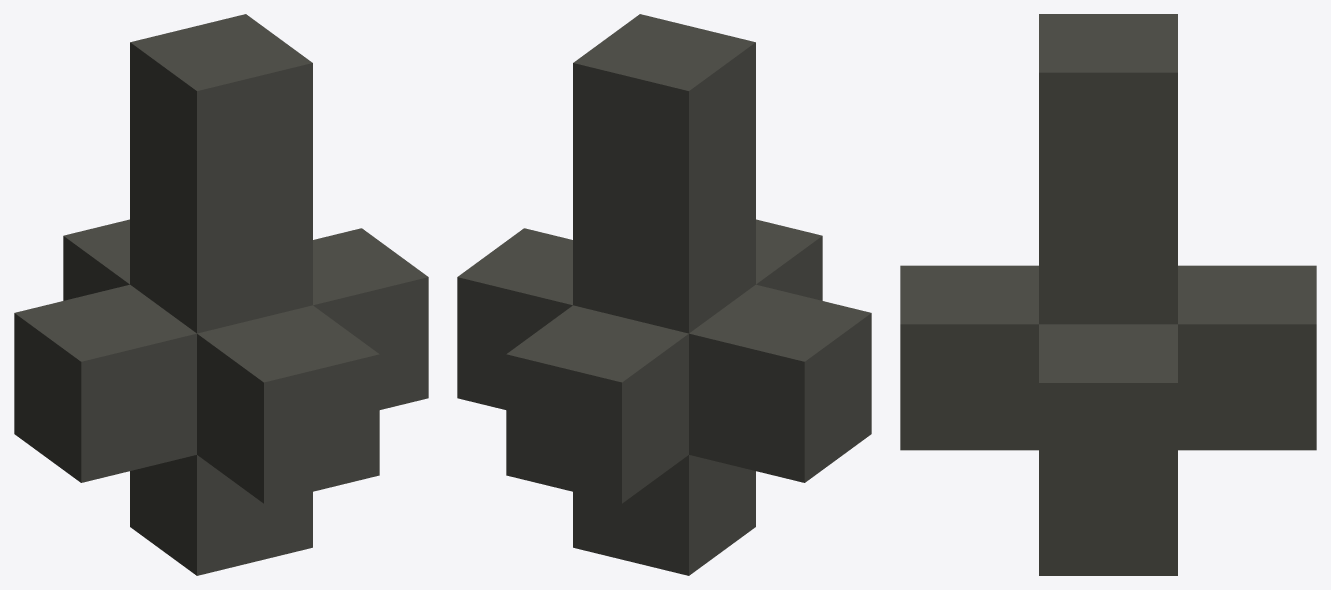
The model's file is church-61-gy_wallposttip.obj.
3 views of the same model, side by side, from view 1: azimuth 30°, elevation 25°; view 2: azimuth 150°, elevation 25°; view 3: azimuth 270°, elevation 25° (orthographic). The views are drawn at different scales.
Visible parts, largest first — view 1: gy_wallposttip; view 2: gy_wallposttip; view 3: gy_wallposttip.
Boxes of the visible parts, x1,y1,x2,y2 form: gy_wallposttip: (14, 14, 428, 575); gy_wallposttip: (457, 14, 871, 575); gy_wallposttip: (900, 14, 1316, 575).
Bounding box in the file's own units: 0.3 × 0.4 × 0.3.
Materials: 1 (1 with a texture image).
